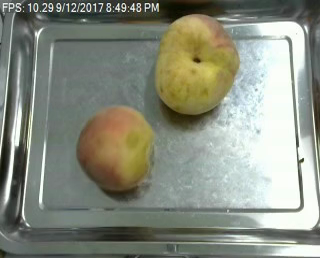Peach: (156, 13, 238, 115), (75, 104, 155, 191)
